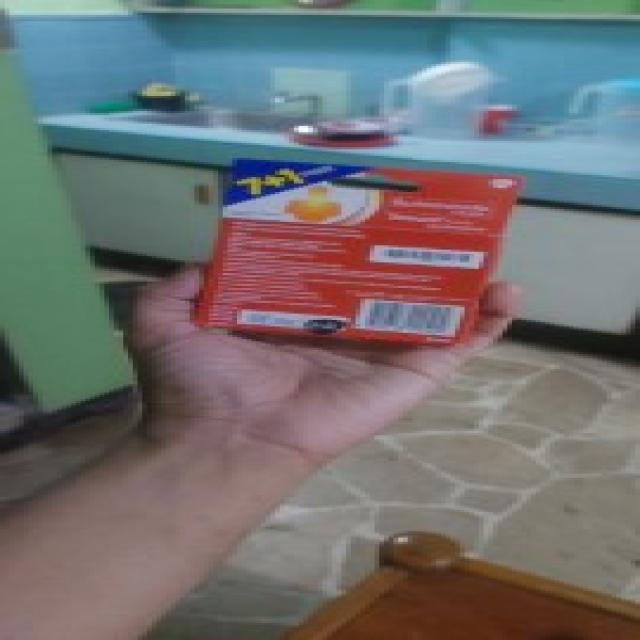Cacat: (192, 162, 526, 354)
